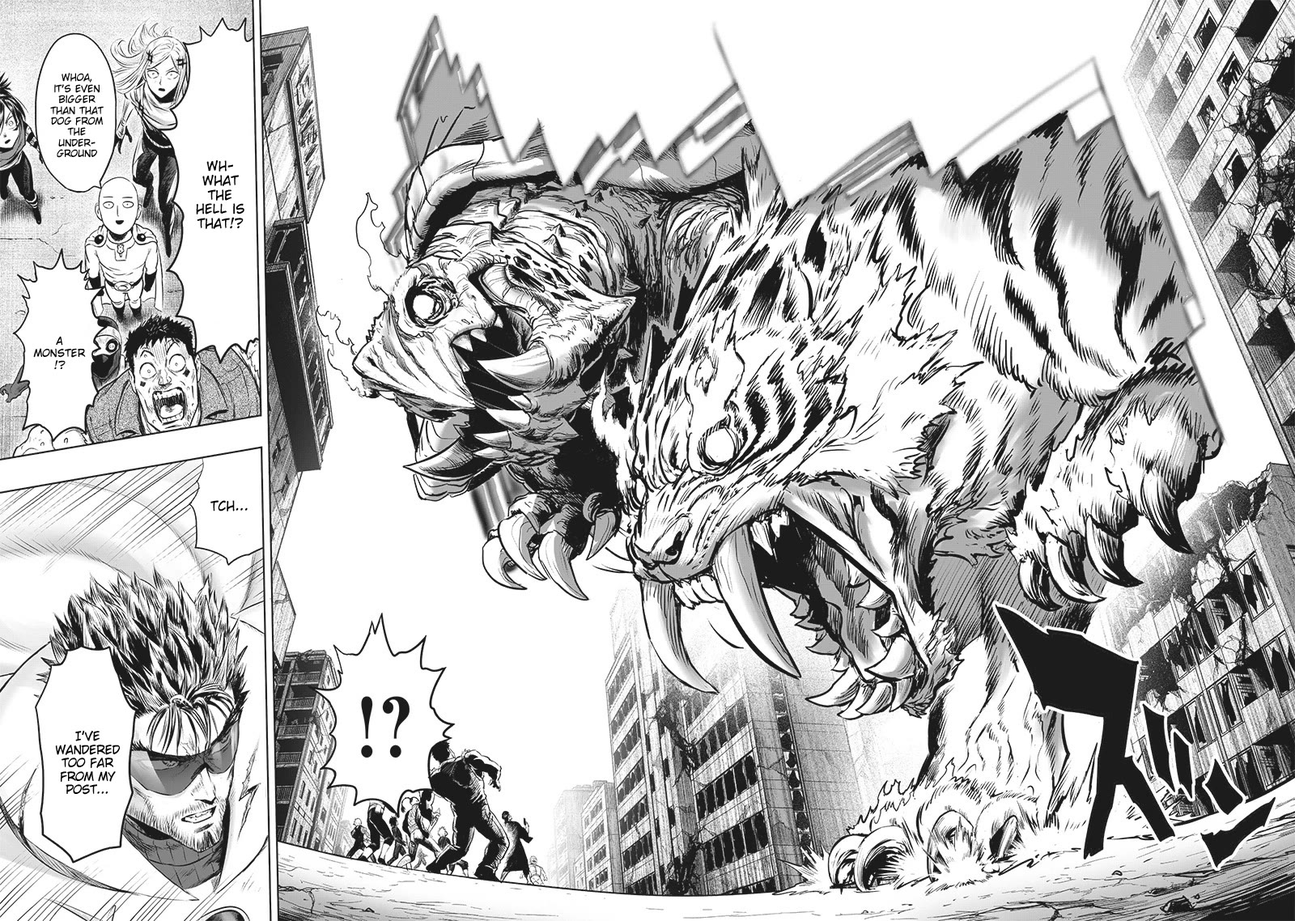bubble: (161, 20, 259, 361), (310, 615, 453, 815), (37, 647, 137, 862), (14, 252, 110, 439), (35, 32, 115, 193), (188, 448, 264, 563)
